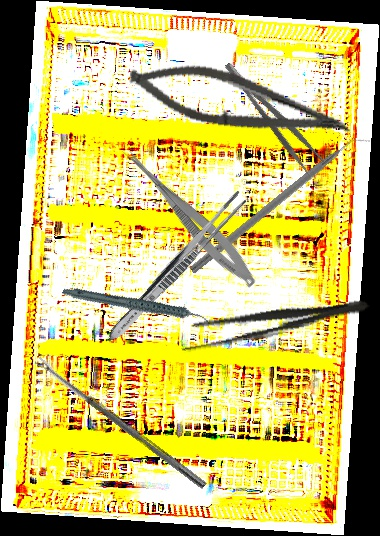Chopper: (189, 129, 373, 283)
Dressing Forceps: (102, 186, 251, 348), (176, 287, 373, 357), (222, 53, 326, 177)
Handpiece: (61, 258, 212, 356)
Micro Scissor: (123, 52, 358, 150), (113, 141, 264, 293)
Surgical Spoon: (34, 355, 208, 490)
